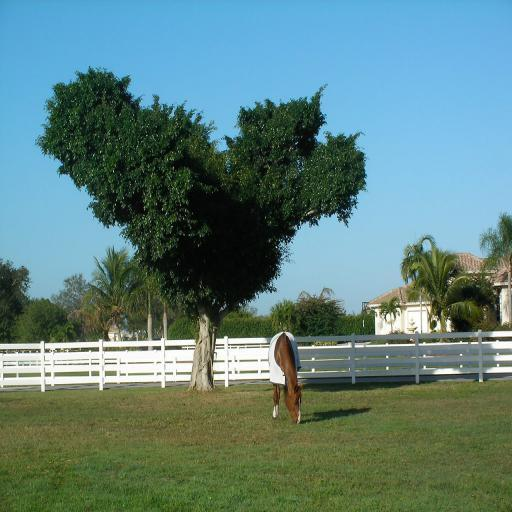Horse: (270, 331, 304, 426)
